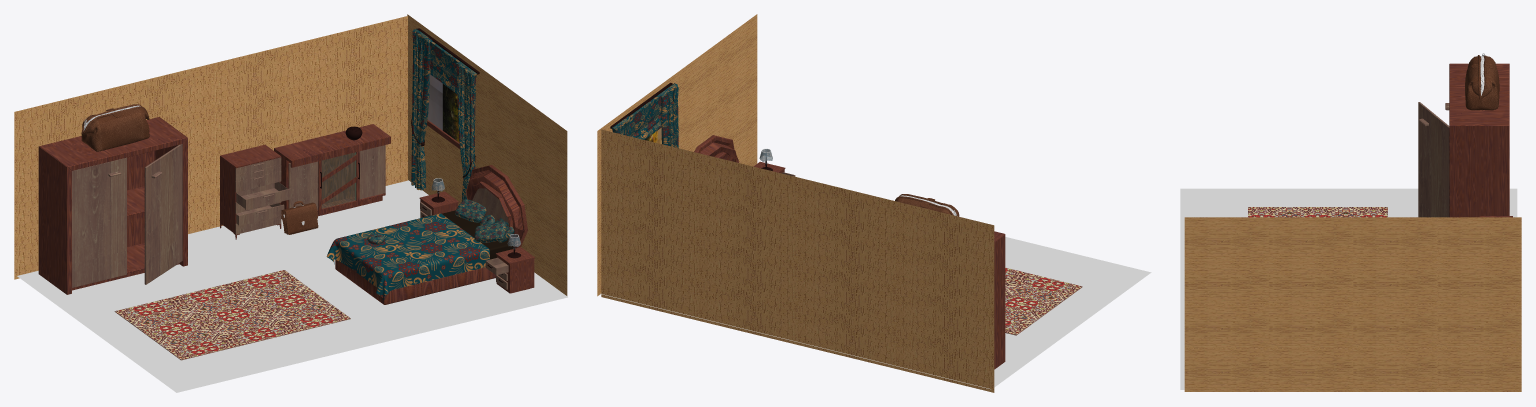
Rendered from shitsngiggles.FBX.
3 views of the same model, side by side, from view 1: azimuth 30°, elevation 25°; view 2: azimuth 150°, elevation 25°; view 3: azimuth 270°, elevation 25° (orthographic). The views are drawn at different scales.
Visible parts, largest first — view 1: Plane004, Plane003, Plane005, Box028, Arch39_059_1, Plane001, Arch39_059_2, Arch39_059_3, Box001, Arch60_052_obj05, arch49_011_obj_00, ChamferBox001 (+18 smaller); view 2: Plane004, Plane005, Plane003, Box028, Arch39_059_1, Arch60_052_obj07, Arch60_052_obj02, ChamferBox003, arch49_011_obj_00; view 3: Plane005, Arch39_059_1, Plane003, Arch39_059_3, arch49_011_obj_00, Box028.
Boxes of the visible parts, left/top/right/bottom form: Plane004: left=14, top=16, right=407, bottom=279; Plane003: left=17, top=180, right=567, bottom=392; Plane005: left=407, top=14, right=567, bottom=295; Box028: left=114, top=270, right=350, bottom=360; Arch39_059_1: left=38, top=117, right=187, bottom=294; Plane001: left=326, top=213, right=489, bottom=299; Arch39_059_2: left=72, top=157, right=126, bottom=287; Arch39_059_3: left=144, top=144, right=182, bottom=284; Box001: left=274, top=124, right=390, bottom=219; Arch60_052_obj05: left=411, top=28, right=432, bottom=190; arch49_011_obj_00: left=81, top=104, right=149, bottom=151; ChamferBox001: left=335, top=260, right=495, bottom=304; Plane004: left=601, top=129, right=994, bottom=392; Plane005: left=597, top=14, right=757, bottom=296; Plane003: left=600, top=237, right=1151, bottom=389; Box028: left=1005, top=267, right=1082, bottom=335; Arch39_059_1: left=994, top=231, right=1005, bottom=369; Arch60_052_obj07: left=658, top=83, right=678, bottom=148; Arch60_052_obj02: left=629, top=95, right=661, bottom=139; ChamferBox003: left=694, top=135, right=738, bottom=162; arch49_011_obj_00: left=895, top=194, right=959, bottom=216; Plane005: left=1184, top=217, right=1521, bottom=391; Arch39_059_1: left=1449, top=63, right=1509, bottom=217; Plane003: left=1180, top=188, right=1517, bottom=389; Arch39_059_3: left=1418, top=102, right=1449, bottom=217; arch49_011_obj_00: left=1465, top=55, right=1499, bottom=110; Box028: left=1248, top=207, right=1387, bottom=217.
Size of the model in its own units: 554 by 225 by 394.
